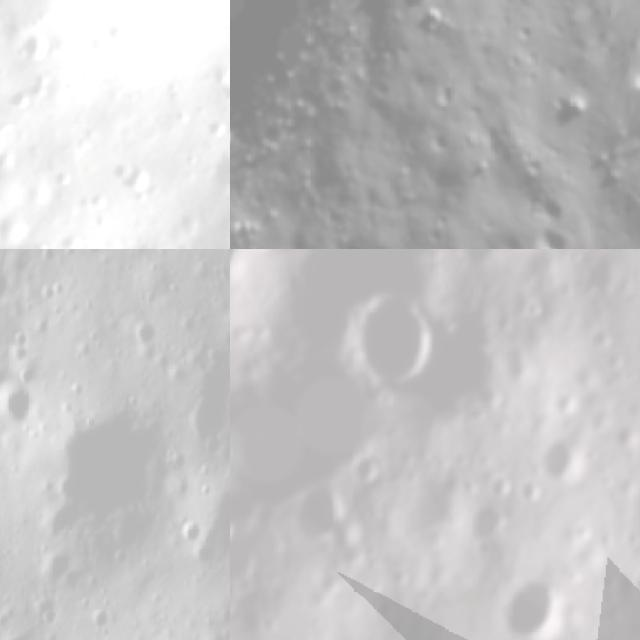crater: (46, 404, 177, 541), (344, 293, 434, 401), (497, 572, 564, 640), (292, 483, 346, 551), (465, 499, 510, 555), (230, 532, 267, 598), (0, 379, 45, 431), (538, 437, 586, 483), (196, 144, 230, 204), (530, 184, 570, 226), (350, 445, 388, 489), (530, 220, 582, 249), (450, 249, 501, 274), (134, 316, 168, 346), (517, 479, 553, 505), (494, 473, 518, 506), (0, 268, 21, 304), (626, 561, 640, 605), (0, 511, 10, 550)
